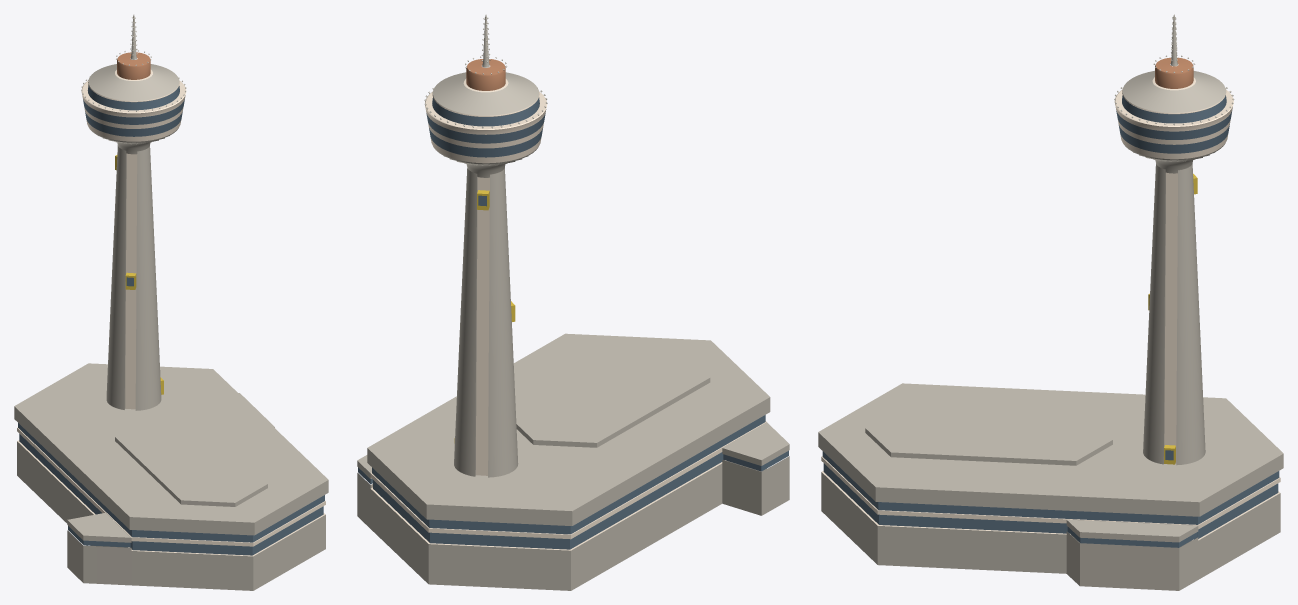
File: niagara-skylon-tower.glb
3 renders of one model, left to right at view 1: azimuth 30°, elevation 25°; view 2: azimuth 150°, elevation 25°; view 3: azimuth 270°, elevation 25°, orthographic. The views are drawn at different scales.
Parts seen in each view (by area): view 1: Skylon Tower; view 2: Skylon Tower; view 3: Skylon Tower.
Boxes of the visible parts, box(x1,y1,x2,y2) form: Skylon Tower: box(14, 14, 328, 590); Skylon Tower: box(357, 14, 789, 590); Skylon Tower: box(818, 14, 1283, 590).
Size of the model in its own units: 98.9 by 163 by 133.
